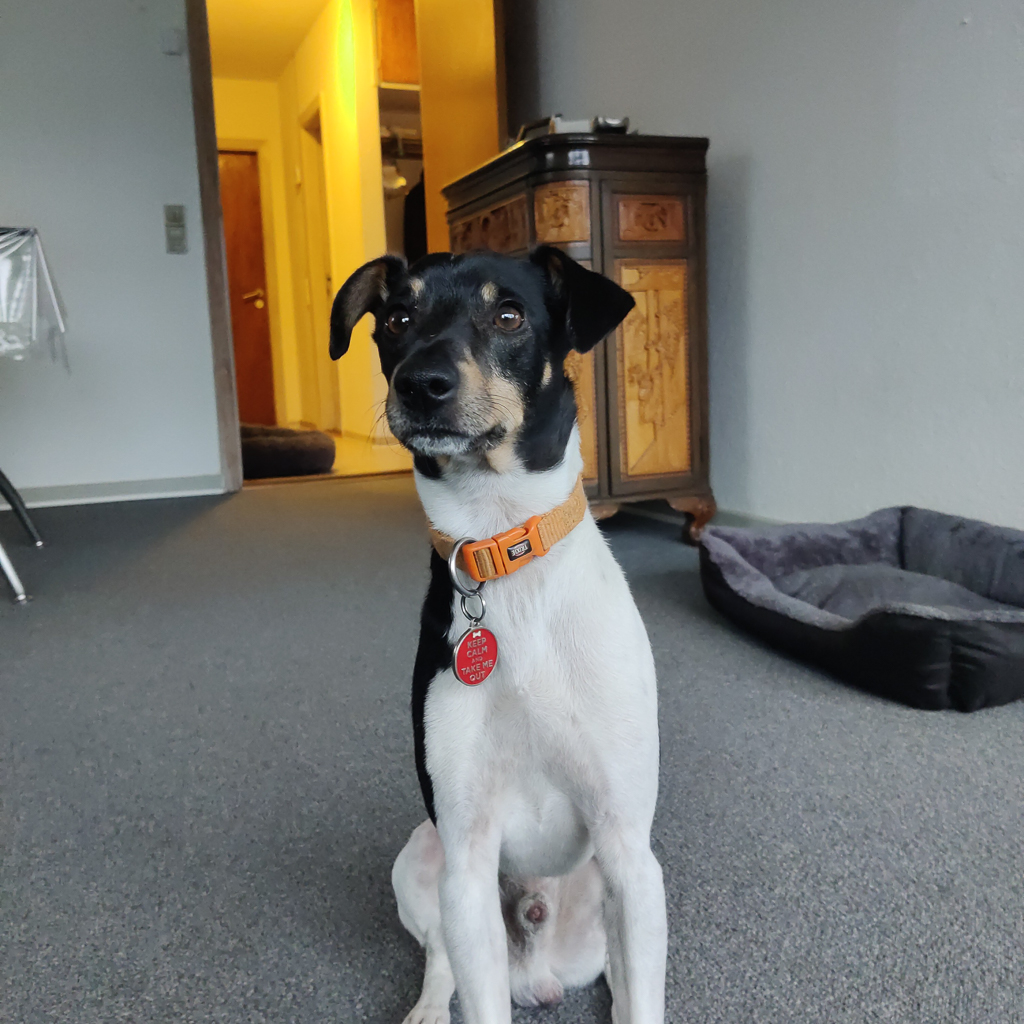Dog: (280, 221, 702, 1024)
